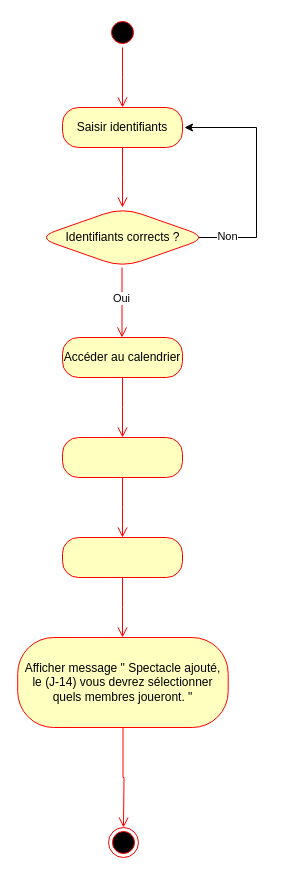
This 282x875 diagram has some shape labels left out. Each missing label, with the centre of its shape:
"Ajouter spectacle à cette date" belongs at pixel 122 557.
"Sélectionner date" belongs at pixel 122 457.
